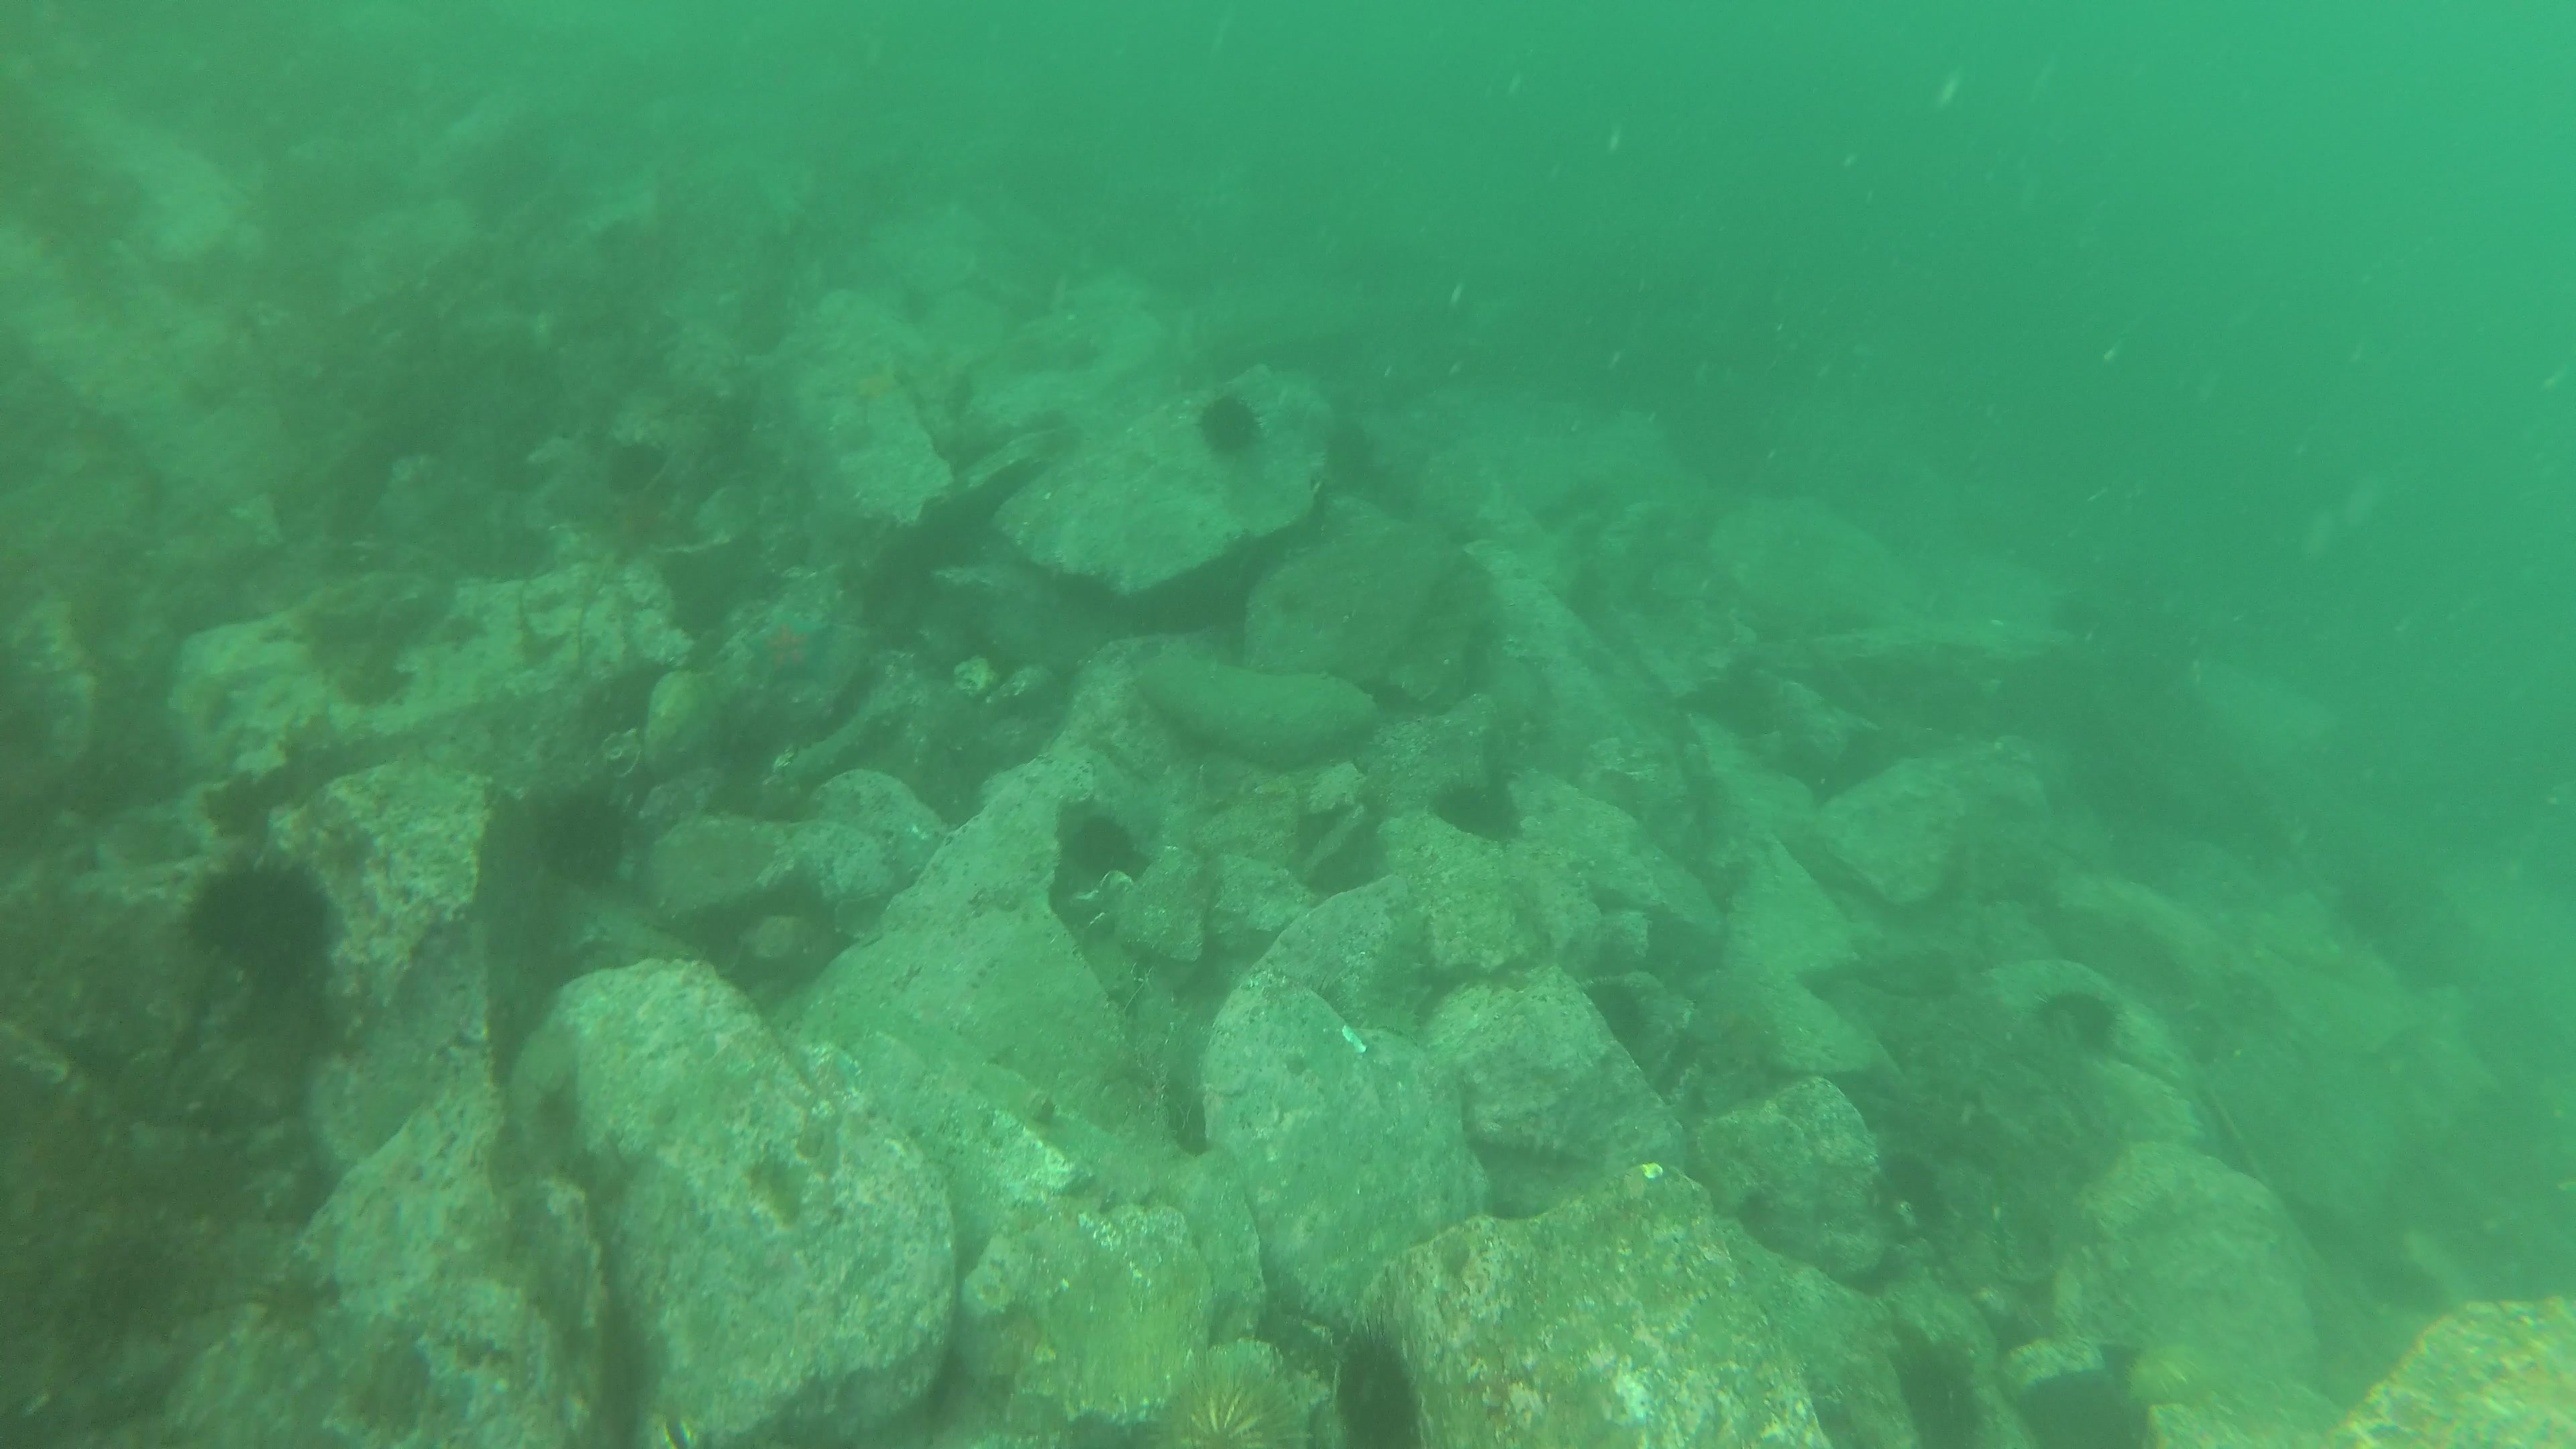echinus: (175, 851, 324, 971), (1138, 1355, 1304, 1449), (1336, 1325, 1437, 1449), (525, 794, 640, 892), (2040, 987, 2125, 1067), (1428, 773, 1516, 847), (1062, 807, 1141, 886), (1189, 395, 1258, 460), (594, 439, 669, 495)
starfish: (732, 600, 837, 694)
